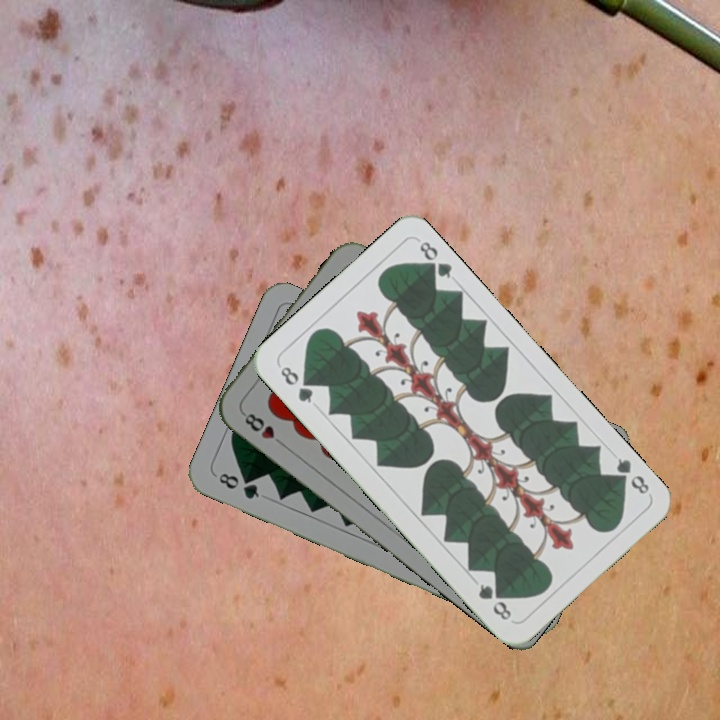G8: (609, 454, 652, 497), (276, 362, 316, 406), (214, 469, 262, 502)
H8: (238, 408, 288, 449)
